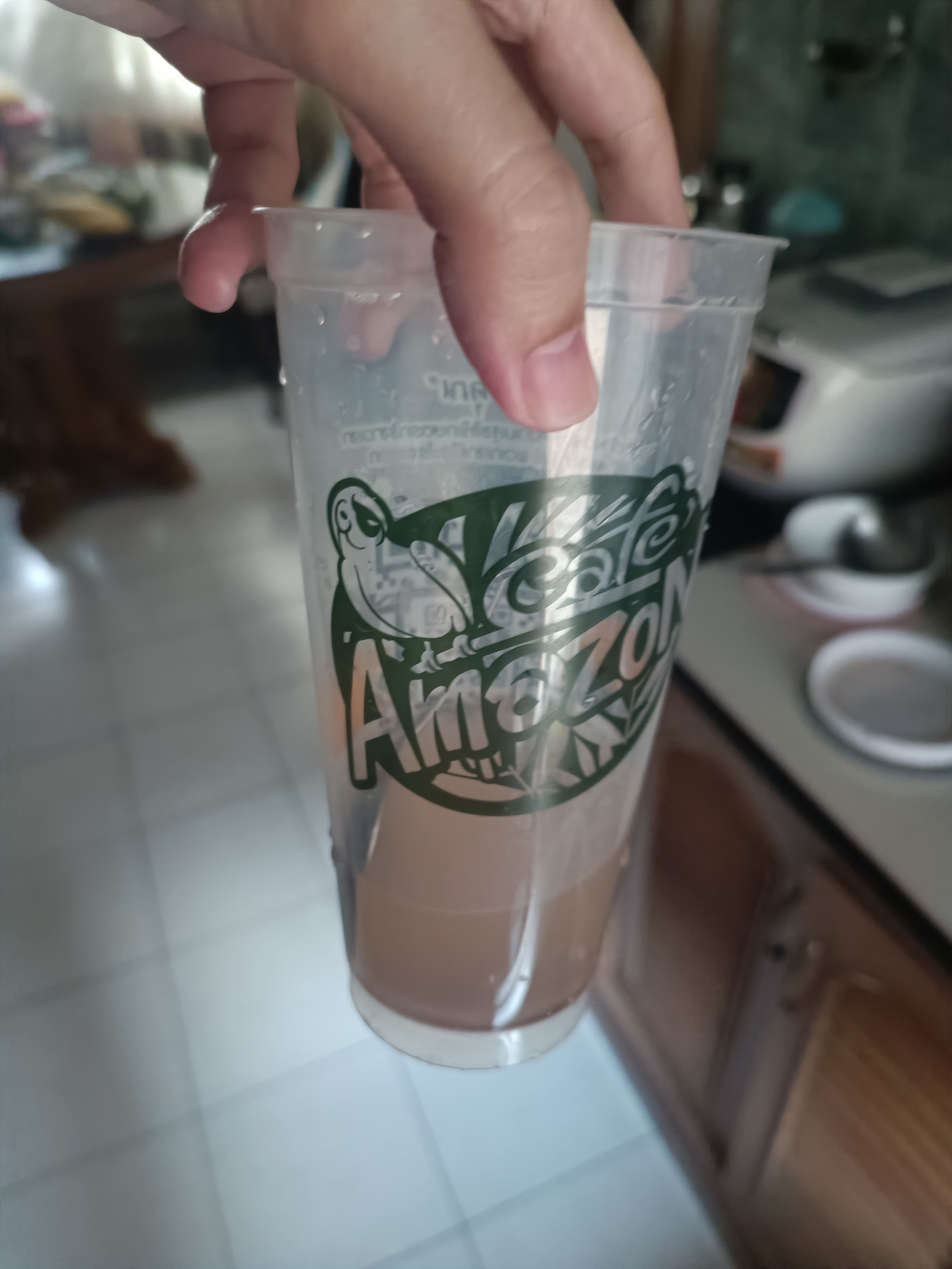plastic: (232, 160, 801, 1077)
